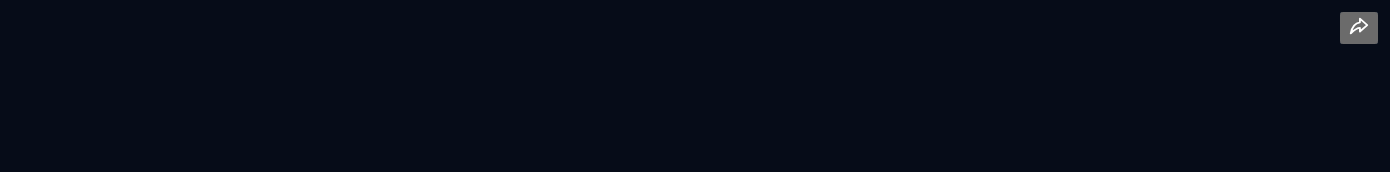
Test case: does not claim success when copying from the icon fails
The image size is (1390, 172).
Click the button named "Copy link".
click(1359, 28)  # box [1340,12,1378,44]
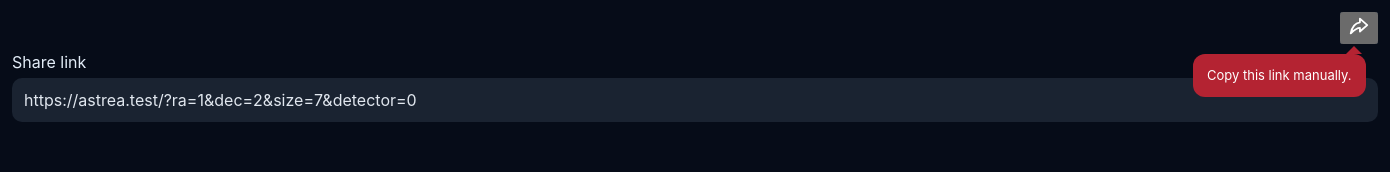
Result: the tooltip reads "Copy this link manually." at [1207,67,1352,83]
Result: the field labelled "Share link" holds "https://astrea.test/?ra=1&dec=2&size=7&detector=0" at [12,78,1378,122]
